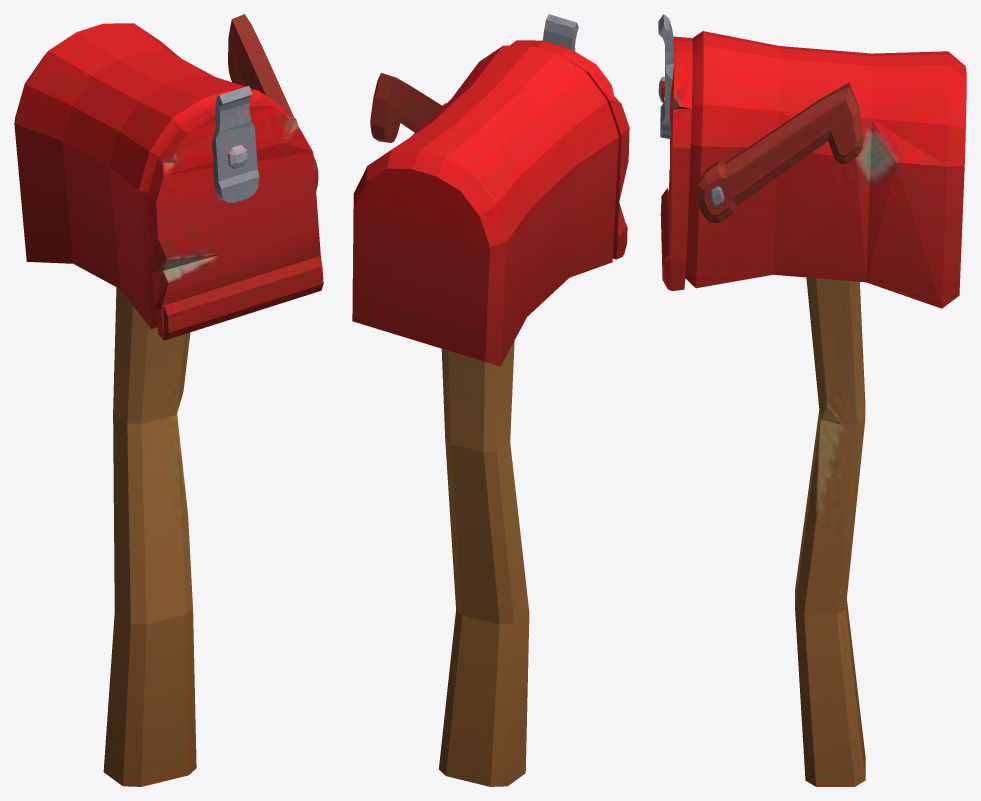
File: mailbox_red.glb
The picture shows the model from 3 angles, left to right: view 1: azimuth 30°, elevation 25°; view 2: azimuth 150°, elevation 25°; view 3: azimuth 270°, elevation 25°; orthographic projection. The views are drawn at different scales.
Parts seen in each view (by area): view 1: mailbox_red; view 2: mailbox_red; view 3: mailbox_red.
Boxes of the visible parts, x1,y1,x2,y2 form: mailbox_red: (14,14,323,786); mailbox_red: (352,14,629,786); mailbox_red: (658,14,966,786).
Bounding box in the file's own units: 0.36 × 1.34 × 0.5.
1 material, 1 textured.
